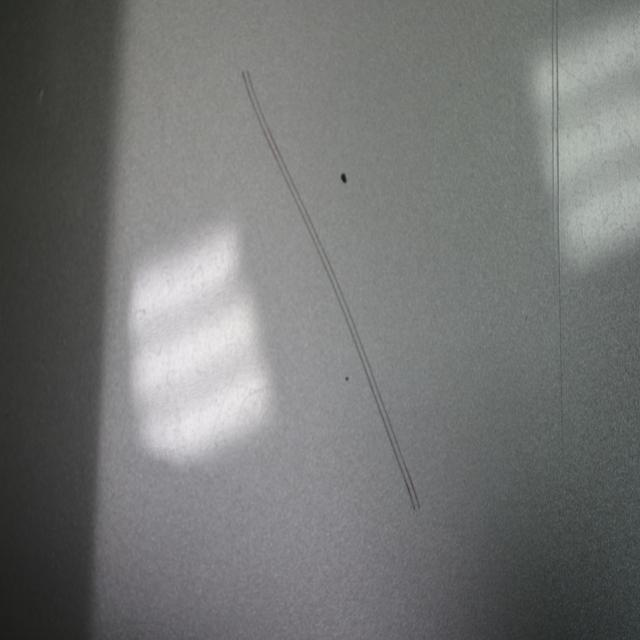dirt: (338, 170, 349, 185), (36, 85, 47, 100), (344, 373, 349, 385)
scratch: (240, 61, 425, 516), (549, 2, 567, 466)
